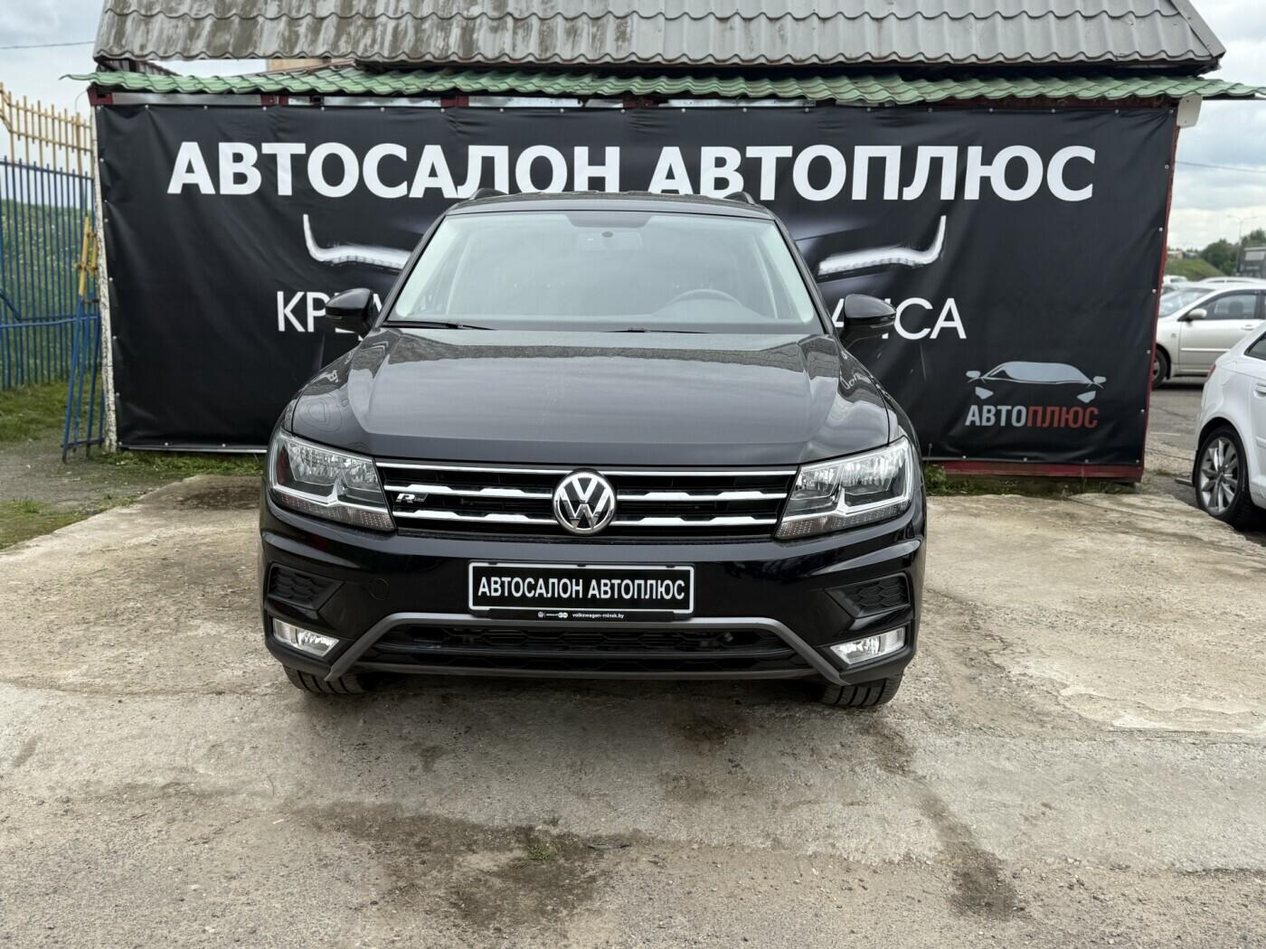Tiguan_2016-2021: (254, 189, 929, 717)
